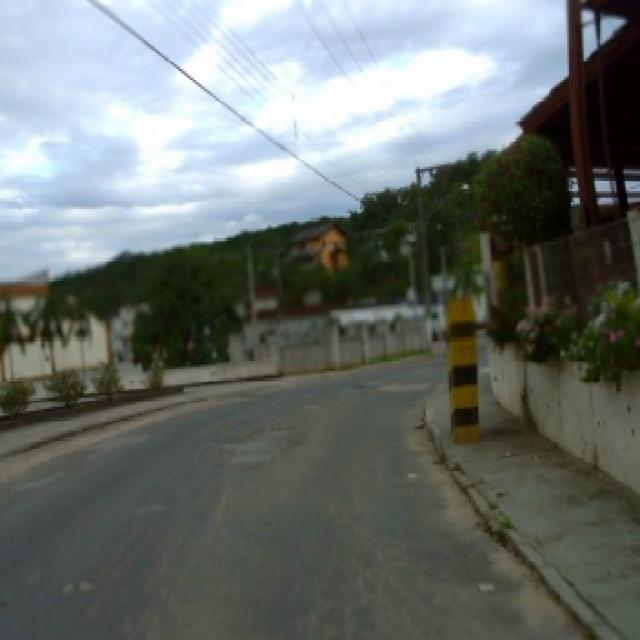Poth-hole: (308, 526, 497, 632), (192, 418, 306, 469), (69, 446, 98, 456)
